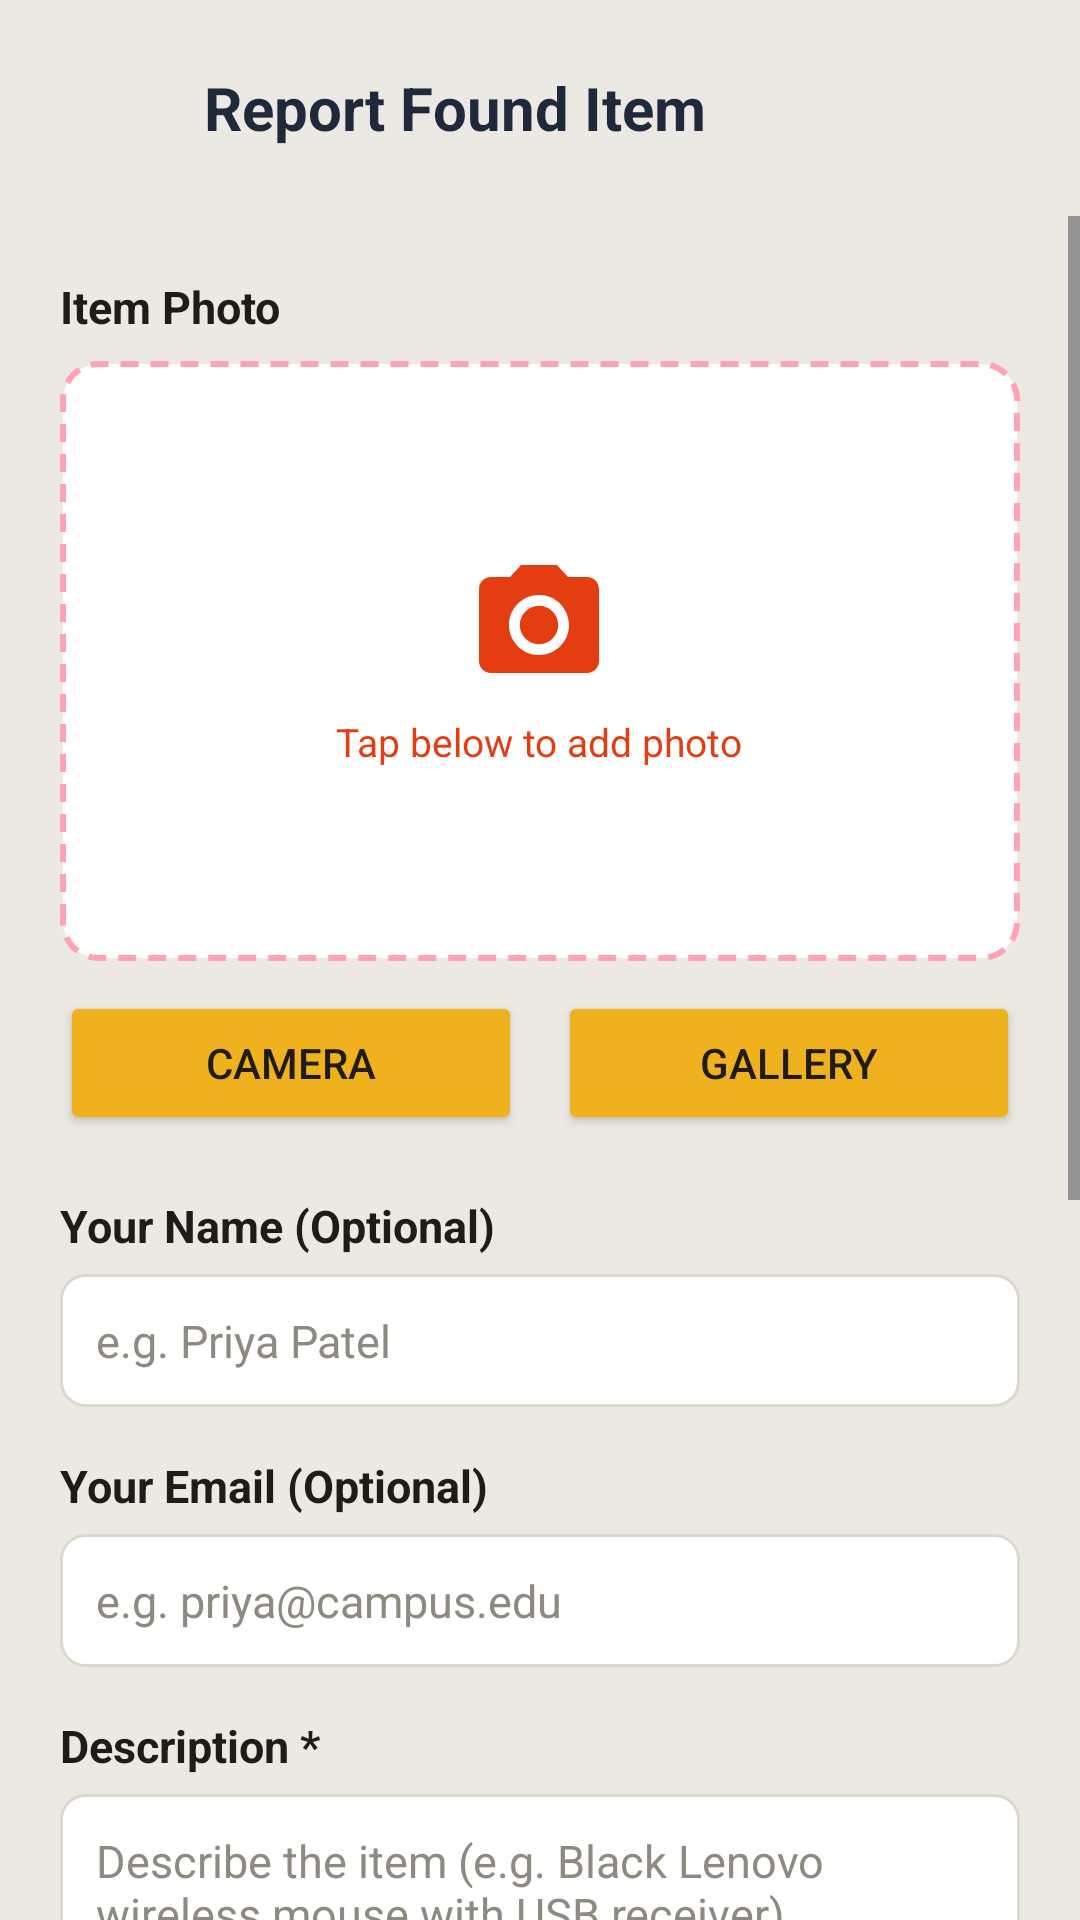

Screen size 1080px×1920px. Icon name, then its center in pixels as (x,y):
camera: (539,619)
